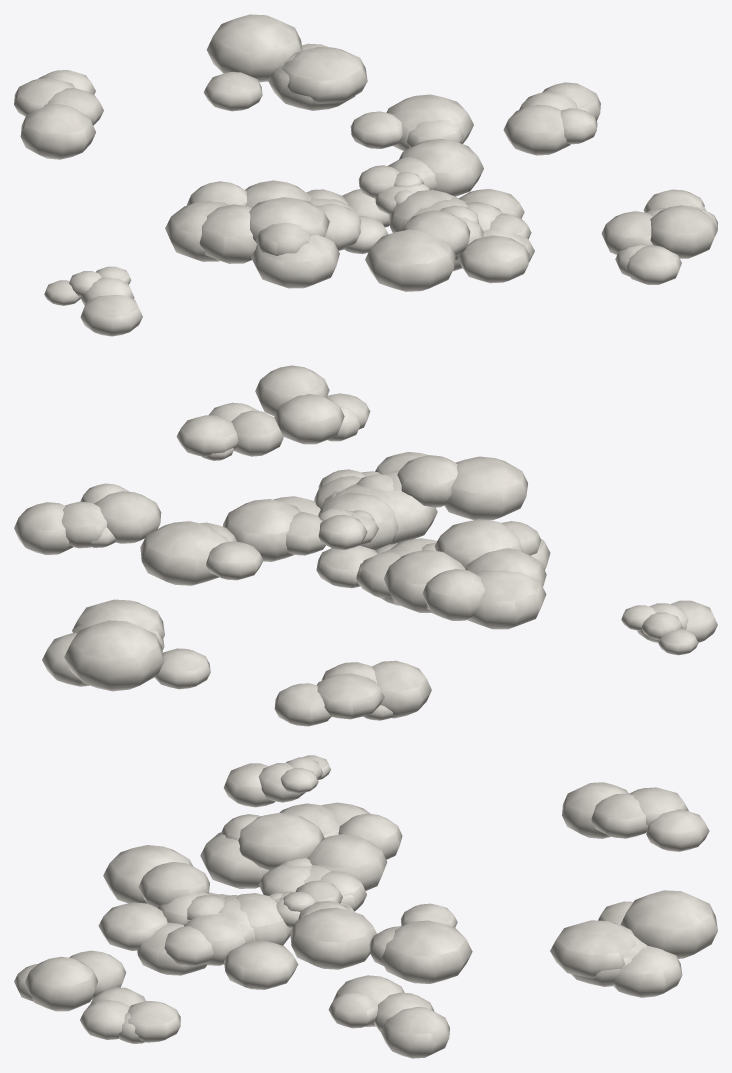
The model's file is lb_cloudslow.glb.
3 renders of one model, top to bottom at view 1: azimuth 30°, elevation 25°; view 2: azimuth 150°, elevation 25°; view 3: azimuth 270°, elevation 25°, orthographic. The views are drawn at different scales.
Parts seen in each view (by area): view 1: lb_cloudslow; view 2: lb_cloudslow; view 3: lb_cloudslow.
Part boxes in pixels (x1,y1,x2,y2): lb_cloudslow: [14, 14, 717, 336]; lb_cloudslow: [14, 365, 717, 726]; lb_cloudslow: [14, 755, 717, 1058].
Bounding box in the file's own units: 44.15 × 5.43 × 43.96.
Materials: 1 (1 with a texture image).
